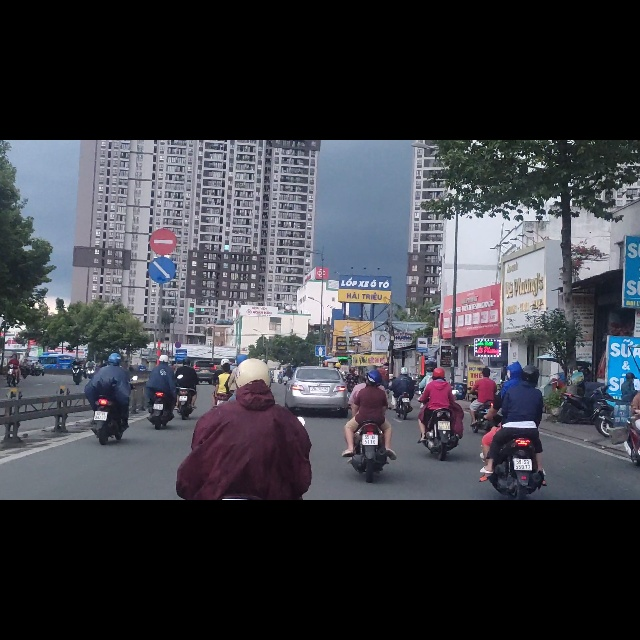bien_hieu_lenh: (147, 204, 178, 257), (148, 153, 177, 205), (416, 350, 429, 378), (315, 365, 326, 384)
